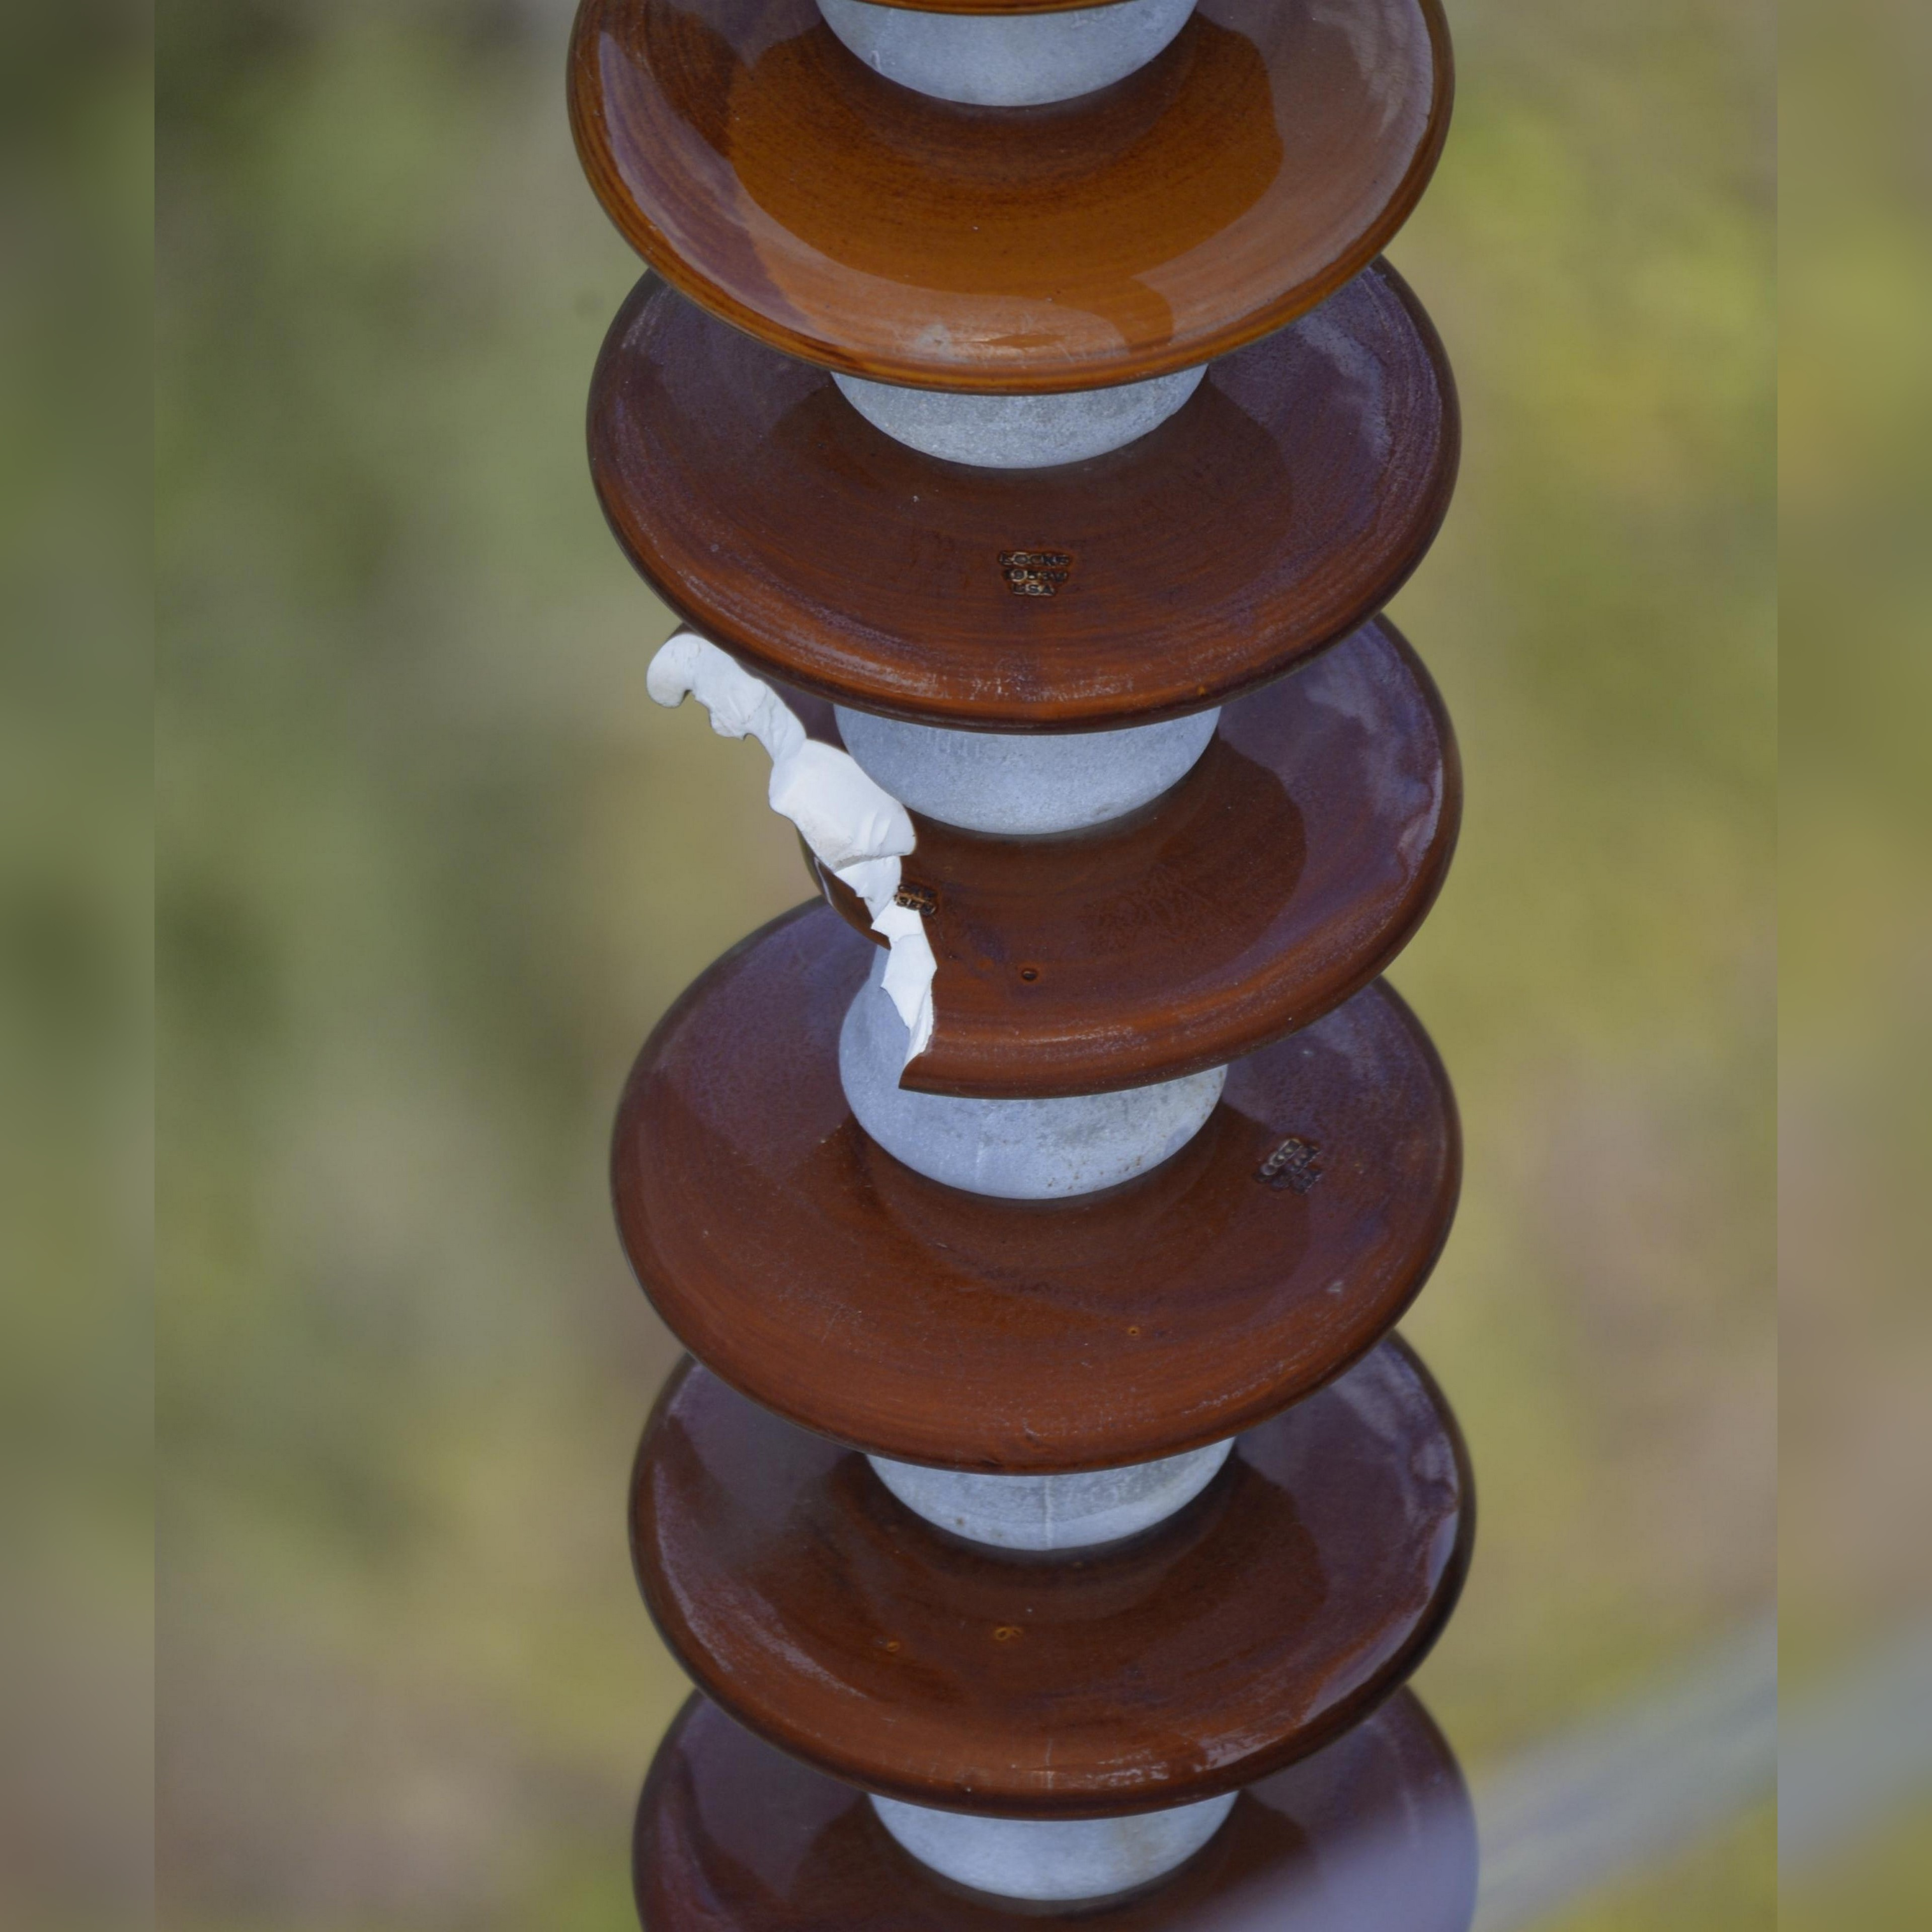insulator breakage: (596, 612, 1495, 1111)
